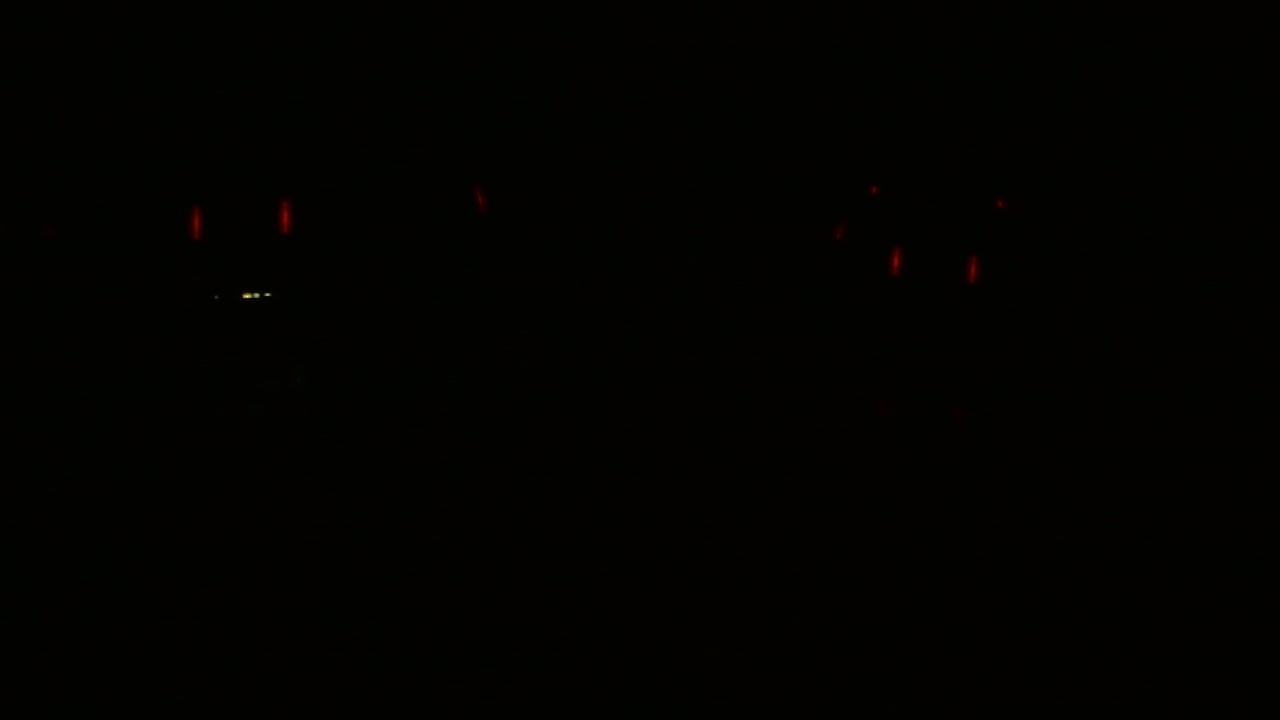pair1: (175, 192, 307, 250)
pair2: (883, 238, 988, 293)
